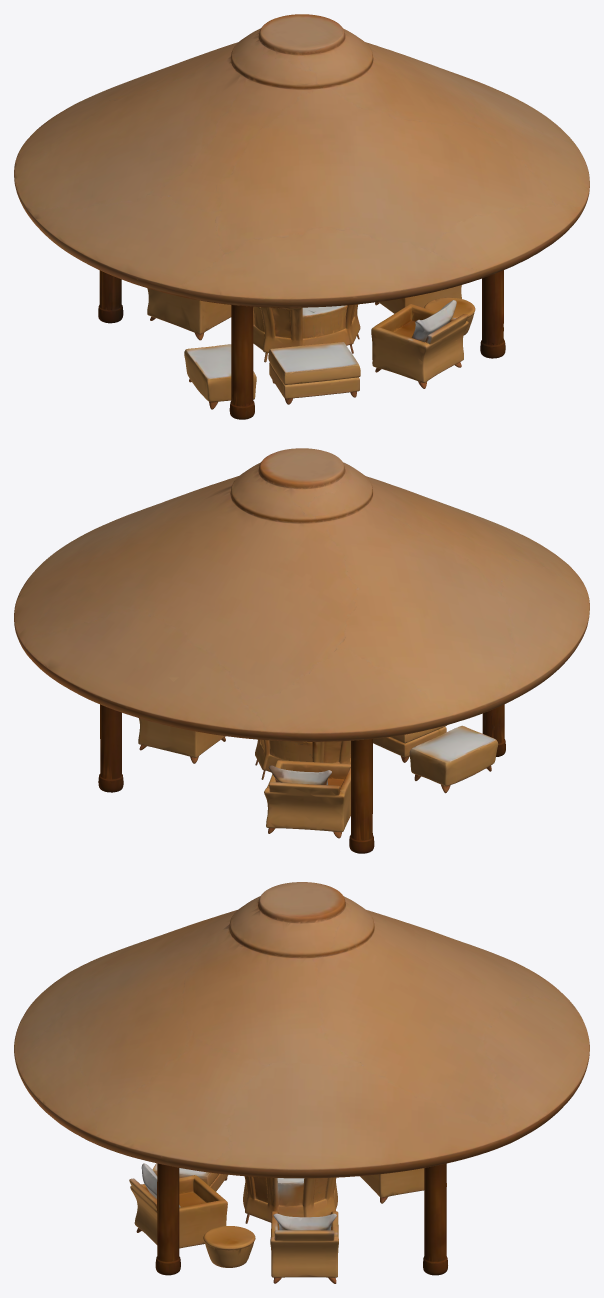
The model's file is Lapa.glb.
3 renders of one model, top to bottom at view 1: azimuth 30°, elevation 25°; view 2: azimuth 150°, elevation 25°; view 3: azimuth 270°, elevation 25°, orthographic.
Parts seen in each view (by area): view 1: material; view 2: material; view 3: material.
Part boxes in pixels (left/top/right/bottom): material: left=14, top=14, right=589, bottom=419; material: left=14, top=448, right=589, bottom=853; material: left=14, top=882, right=589, bottom=1283.
Bounding box in the file's own units: 1.18 × 0.7053 × 1.17.
1 material, 1 textured.
